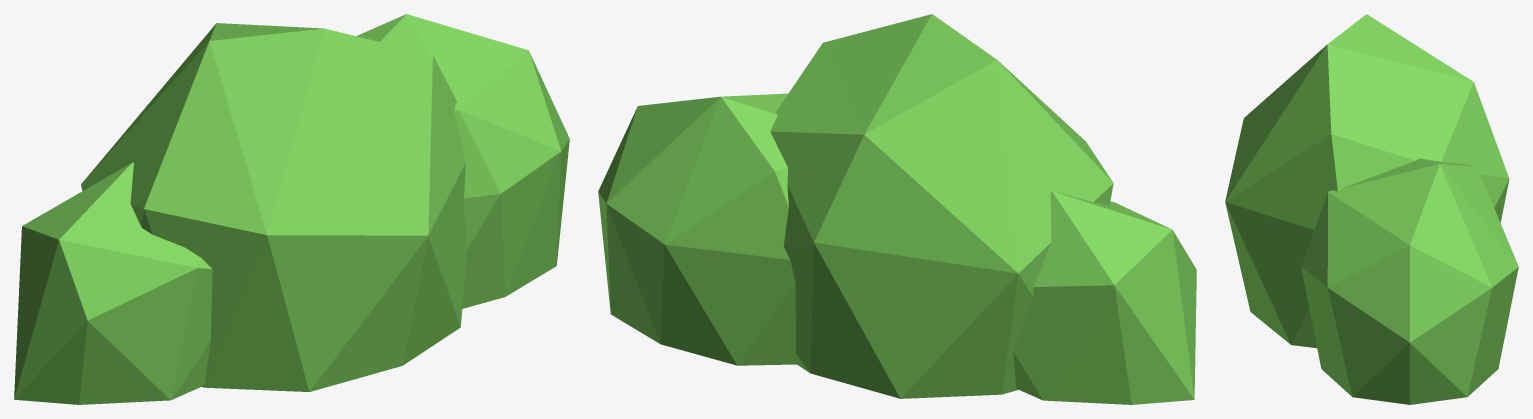
The model's file is Bush_B.fbx.
3 views of the same model, side by side, from view 1: azimuth 30°, elevation 25°; view 2: azimuth 150°, elevation 25°; view 3: azimuth 270°, elevation 25° (orthographic). The views are drawn at different scales.
Parts seen in each view (by area): view 1: Bush_B; view 2: Bush_B; view 3: Bush_B.
Boxes of the visible parts, left/top/right/bottom form: Bush_B: left=14, top=14, right=569, bottom=404; Bush_B: left=598, top=14, right=1196, bottom=404; Bush_B: left=1225, top=14, right=1518, bottom=404.
Bounding box in the file's own units: 84.46 × 43.26 × 44.59.
